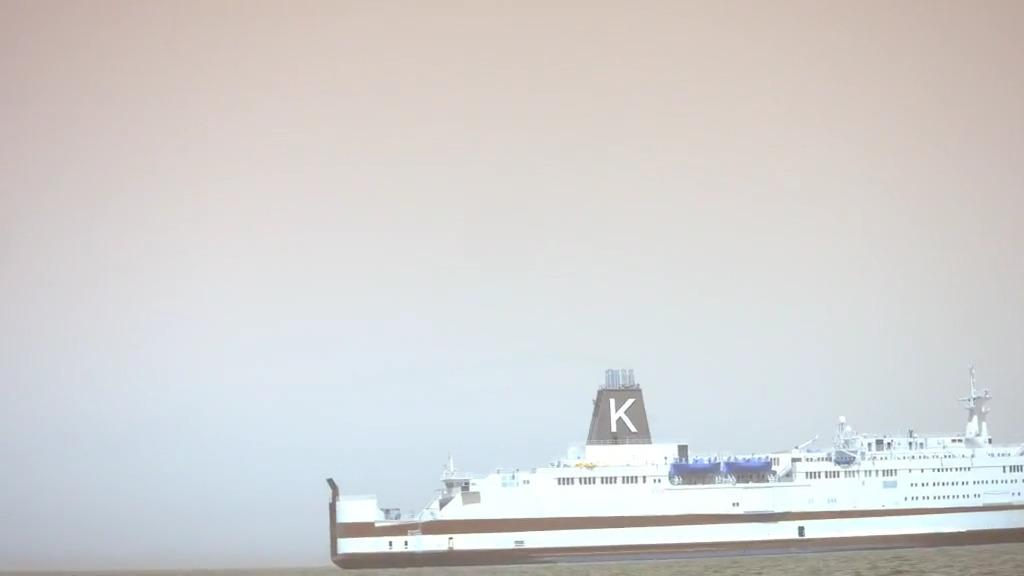PassengerShip: (316, 364, 1024, 576)
